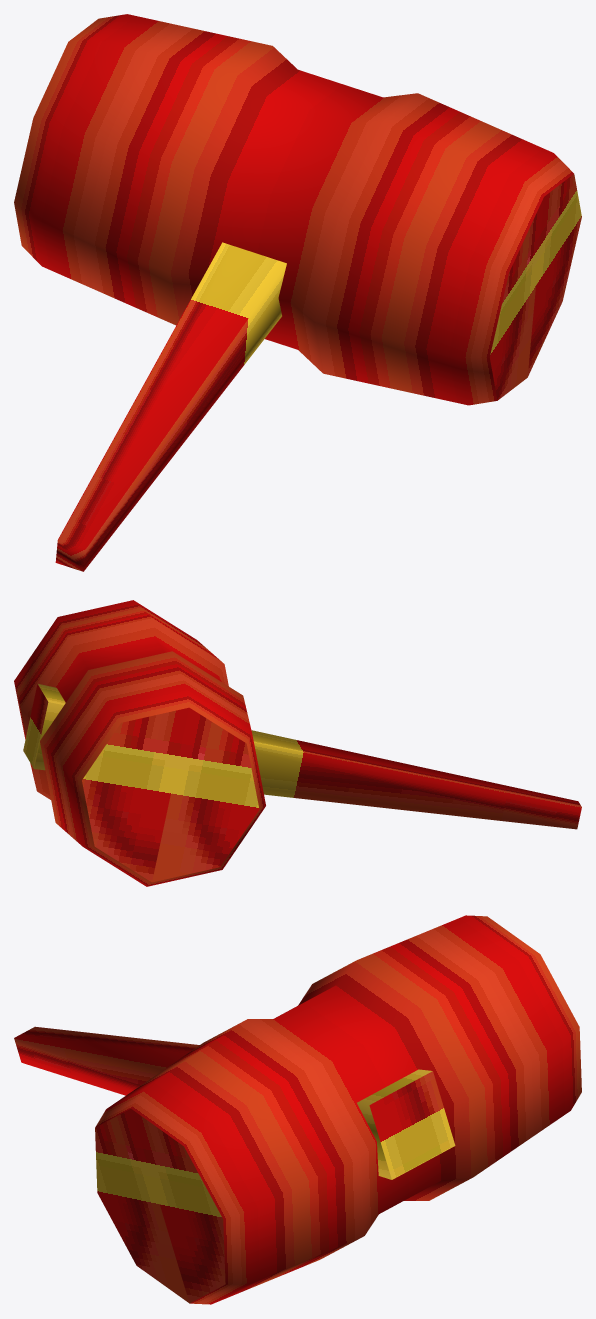
Rendered from fg_hammer.obj.
3 views of the same model, one above another, from view 1: azimuth 30°, elevation 25°; view 2: azimuth 150°, elevation 25°; view 3: azimuth 270°, elevation 25° (orthographic). The views are drawn at different scales.
Visible parts, largest first — view 1: vsn_mesh_0__mesh_0_.001; view 2: vsn_mesh_0__mesh_0_.001; view 3: vsn_mesh_0__mesh_0_.001.
Part boxes in pixels (x1=…): vsn_mesh_0__mesh_0_.001: x1=14, y1=14, x2=581, y2=571; vsn_mesh_0__mesh_0_.001: x1=14, y1=600, x2=581, y2=886; vsn_mesh_0__mesh_0_.001: x1=14, y1=915, x2=581, y2=1304.
Size of the model in its own units: 22.38 by 10.26 by 19.45.
Materials: 1 (1 with a texture image).
